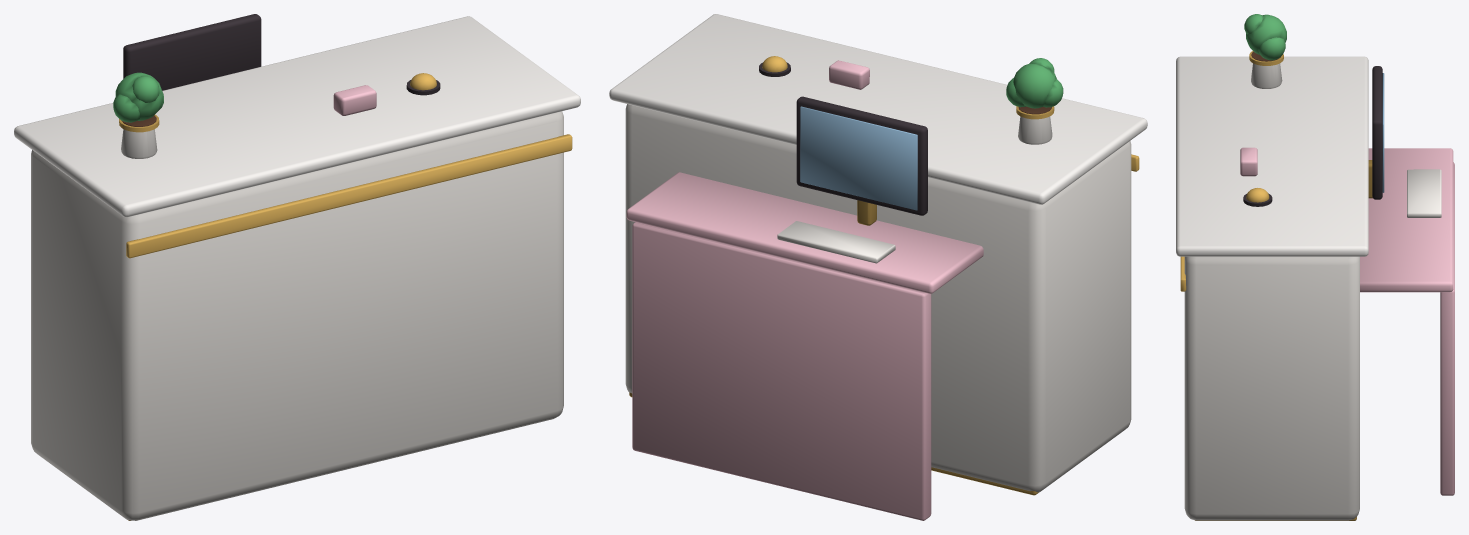
File: reception-desk-white.glb
3 renders of one model, left to right at view 1: azimuth 30°, elevation 25°; view 2: azimuth 150°, elevation 25°; view 3: azimuth 270°, elevation 25°, orthographic. The views are drawn at different scales.
Visible parts, largest first — view 1: reception-desk-white; view 2: reception-desk-white; view 3: reception-desk-white.
Boxes of the visible parts, x1,y1,x2,y2 form: reception-desk-white: [14, 14, 580, 520]; reception-desk-white: [609, 14, 1147, 520]; reception-desk-white: [1176, 14, 1454, 520].
Bounding box in the file's own units: 1.56 × 1.32 × 0.955.
